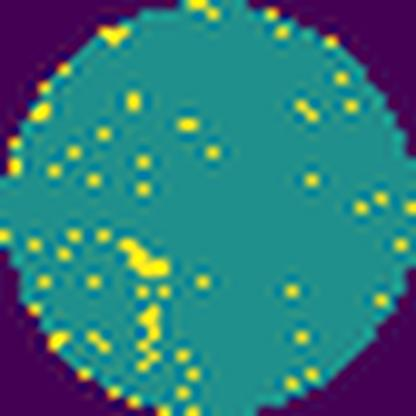Loc: (117, 238, 174, 277)
